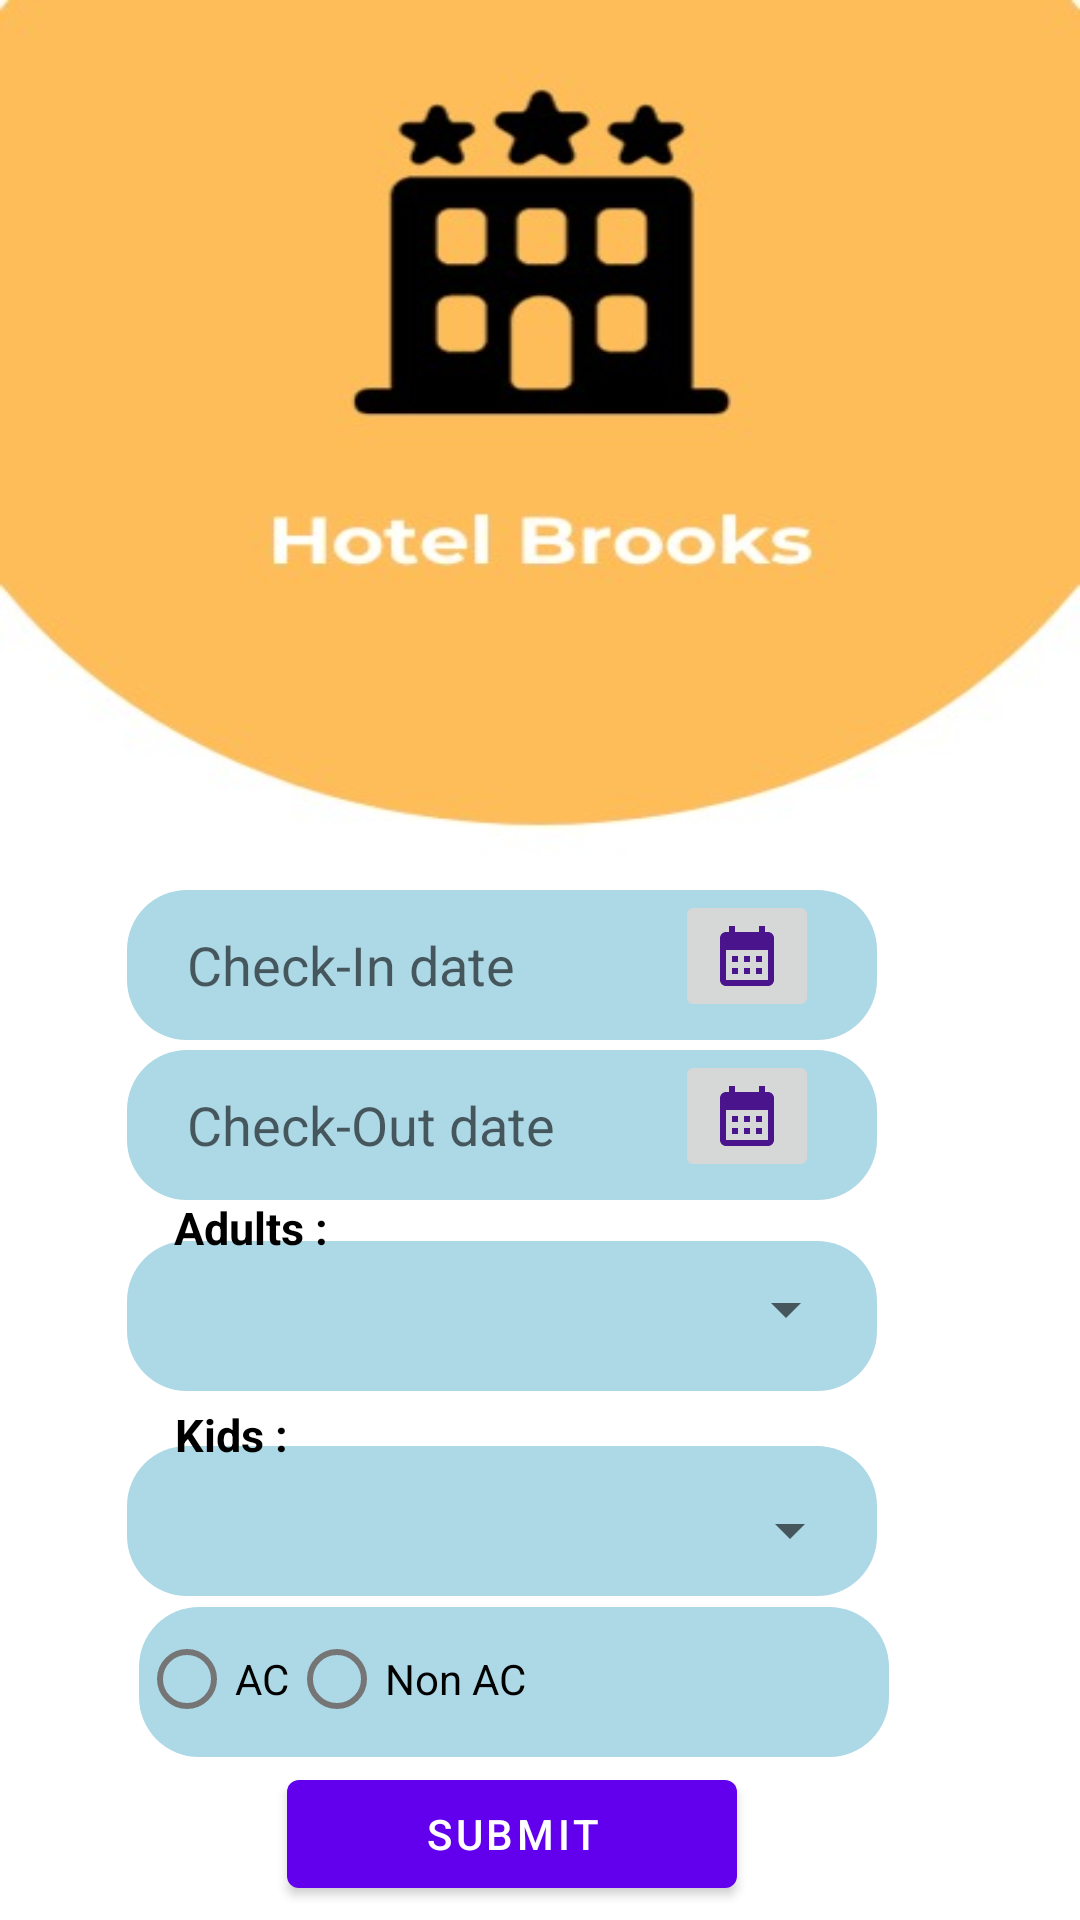

Screen size 1080px x 1920px. Icon name, then its center in pixels as point (x, y):
calendar month: point (747, 956), point (747, 1116)
